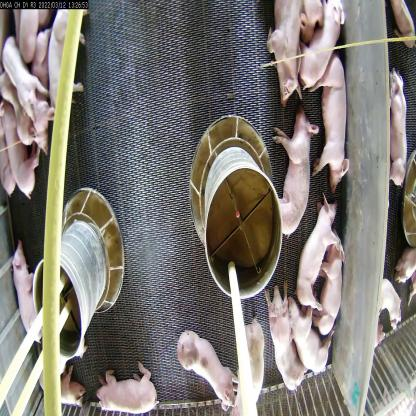Pig: (162, 321, 244, 415), (270, 113, 316, 238), (318, 49, 356, 189), (228, 320, 280, 416), (294, 198, 337, 309), (296, 0, 344, 98), (265, 284, 307, 393), (283, 298, 333, 382), (1, 42, 45, 134), (88, 361, 159, 416), (314, 232, 348, 338), (8, 244, 45, 340), (270, 0, 295, 99)
